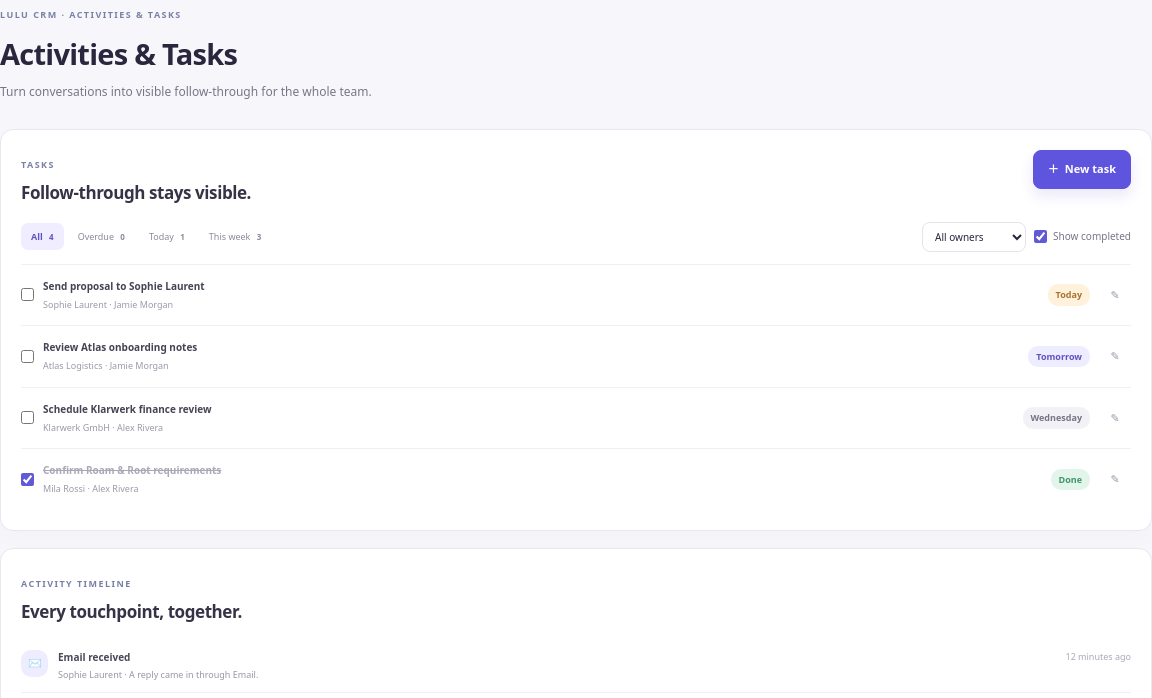
Test case: Activities & Tasks page › deletes a task after confirming
Expected: the text "Send proposal to Sophie Laurent" is shown, [43,278,205,292]
Expected: the text "Email received" is shown, [58,650,130,664]
Click the button named "Edit Review Atlas onboarding notes" at [1115, 356], box [1099,340,1131,372]
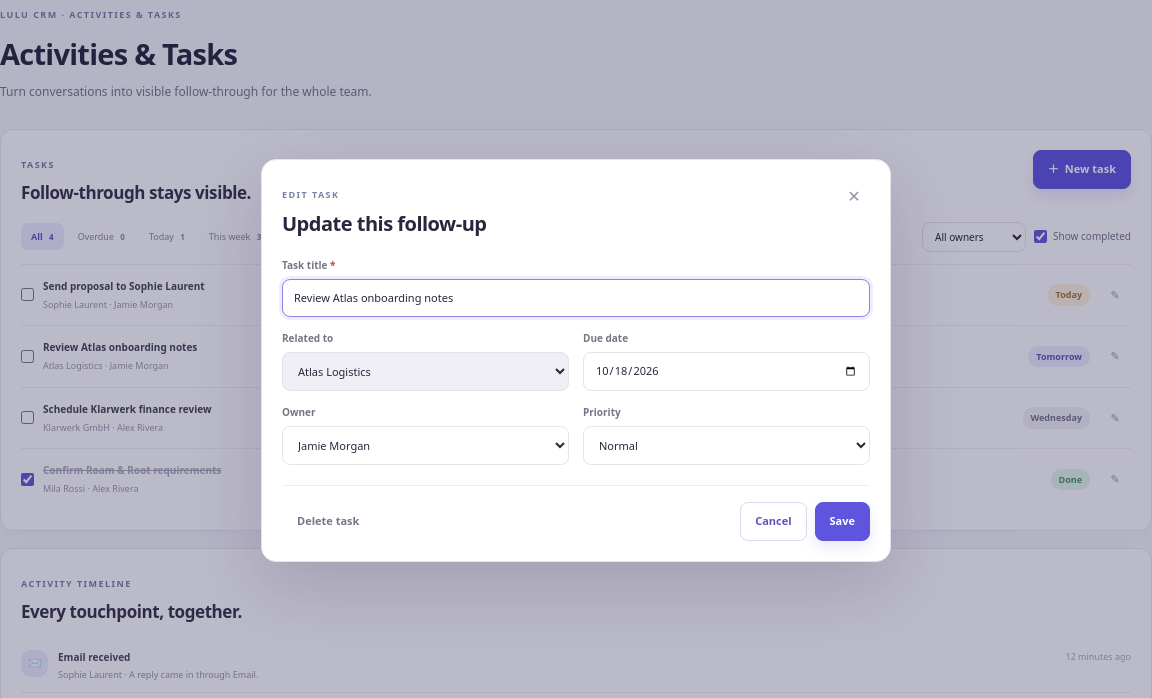
Click the button "Delete task" at [328, 521], box [282,502,374,540]
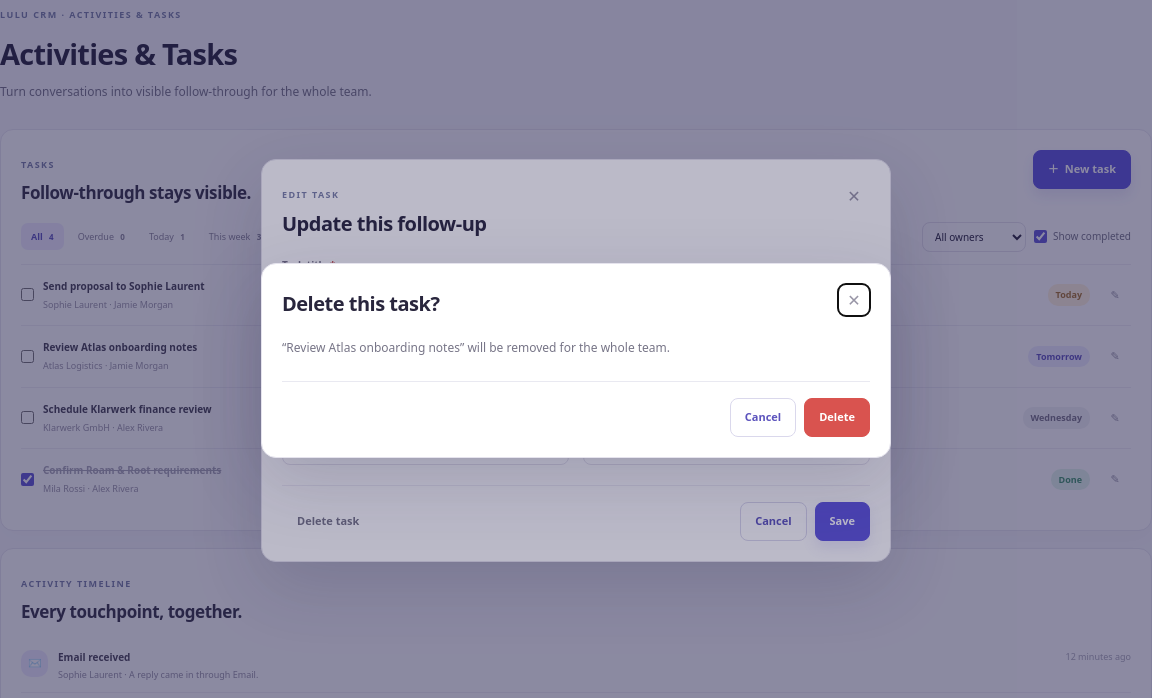
Click the button "Delete" at [837, 417], box [804,398,870,436]
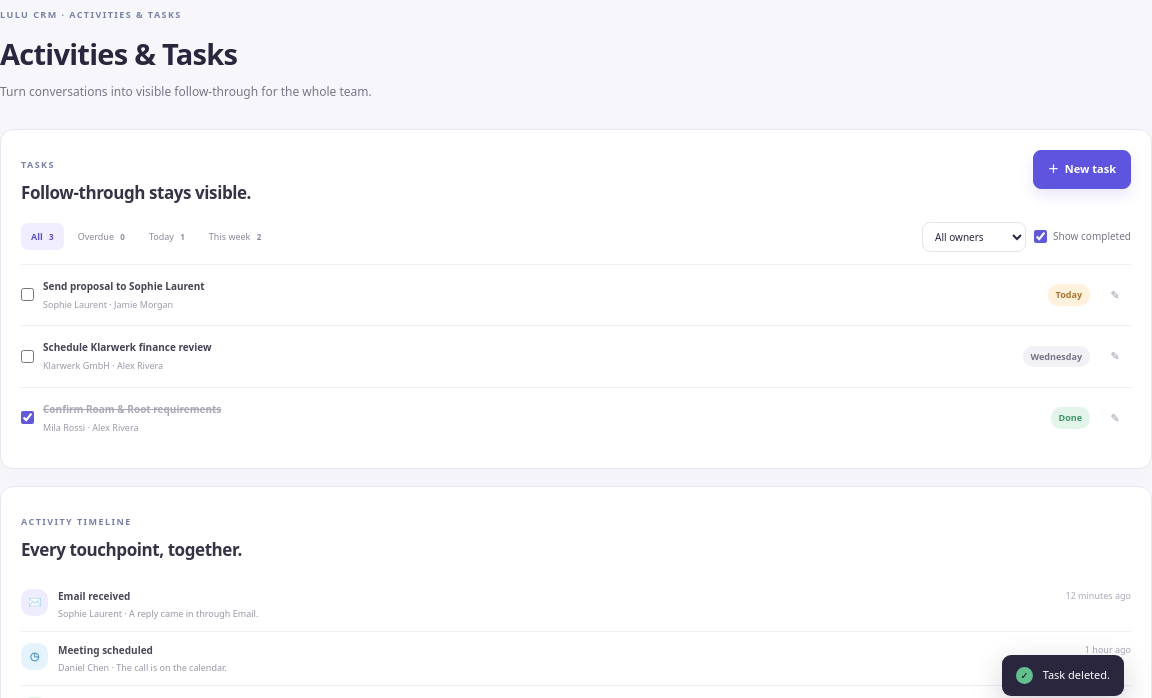
Result: the text "Task deleted." is shown at [1043,667,1110,682]
Result: the text "Review Atlas onboarding notes" is gone
